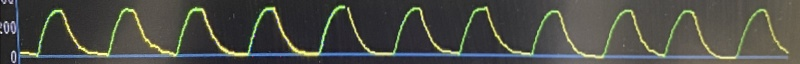normal_volume: (19, 0, 800, 64)
